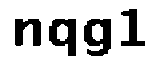1: (119, 9, 147, 49)
g: (82, 16, 115, 59)
n: (10, 16, 46, 49)
q: (45, 16, 80, 60)
